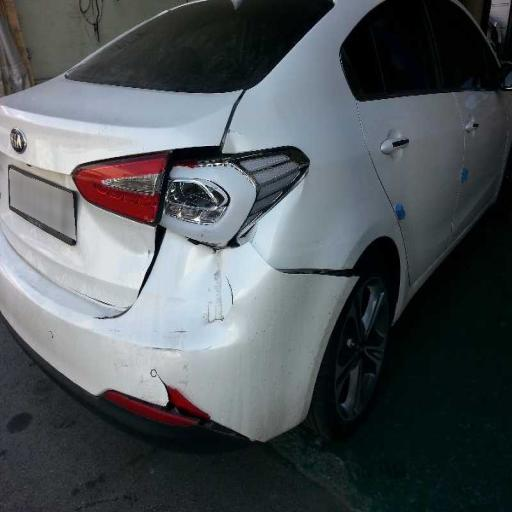broken: (107, 122, 342, 408), (136, 358, 288, 460)
scratch: (184, 261, 256, 345)
